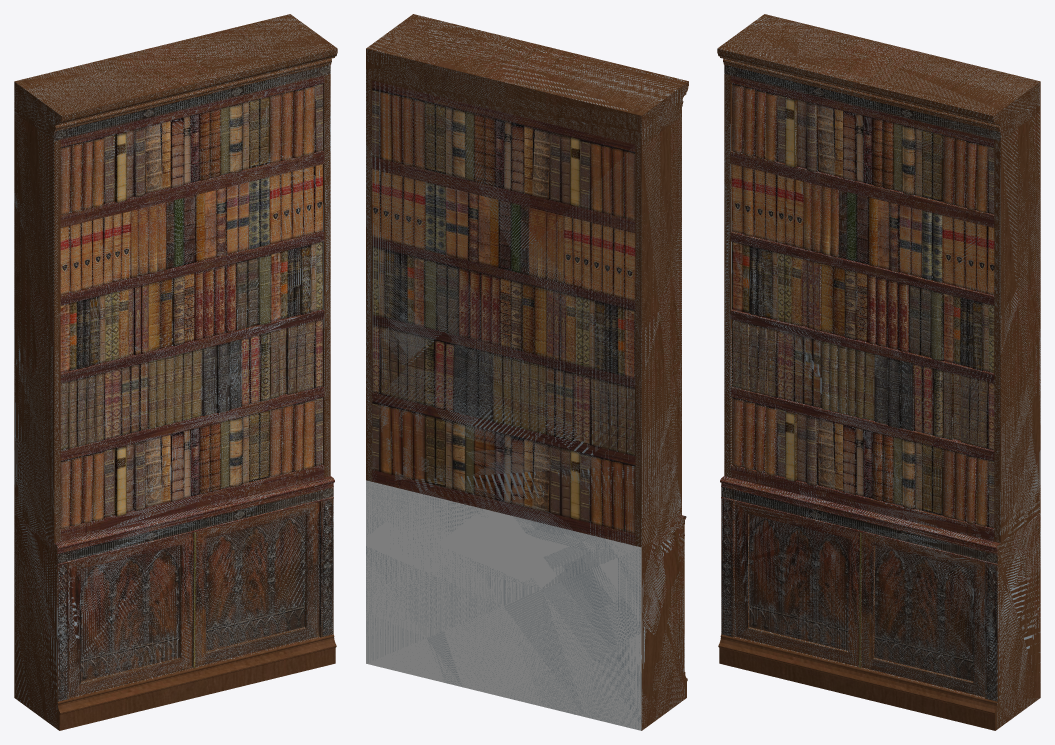
3 renders of one model, left to right at view 1: azimuth 30°, elevation 25°; view 2: azimuth 150°, elevation 25°; view 3: azimuth 330°, elevation 25°, orthographic.
Parts seen in each view (by area): view 1: group_0 (×4), group_3 (×9), SketchUp (×2), group_2, group_1; view 2: group_0, group_3 (×2), SketchUp, group_2, group_1; view 3: group_0 (×4), group_3 (×8), SketchUp (×2), group_1, group_2.
Boxes of the visible parts, x1,y1,x2,y2 form: group_0 (×4): [60, 75, 324, 541]; group_3 (×9): [14, 476, 336, 730]; SketchUp (×2): [14, 14, 337, 141]; group_2: [14, 112, 60, 543]; group_1: [323, 74, 330, 477]; group_0: [372, 80, 635, 545]; group_3 (×2): [366, 480, 684, 730]; SketchUp: [366, 14, 688, 146]; group_2: [635, 117, 681, 547]; group_1: [366, 79, 372, 481]; group_0 (×4): [730, 75, 994, 541]; group_3 (×8): [718, 476, 1040, 730]; SketchUp (×2): [717, 14, 1040, 141]; group_1: [994, 112, 1040, 543]; group_2: [724, 74, 731, 477].
Bounding box in the file's own units: 85.86 × 25.48 × 183.
Materials: 8 (6 with a texture image).
